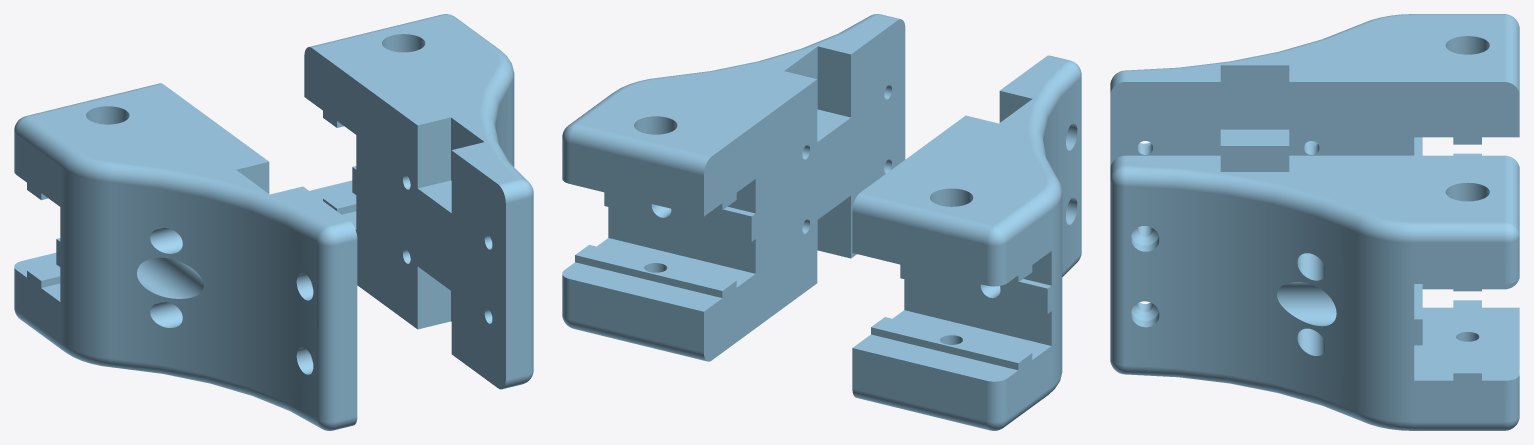
The model's file is pizza_tire_joint.dae.
The picture shows the model from 3 angles, left to right: view 1: azimuth 30°, elevation 25°; view 2: azimuth 150°, elevation 25°; view 3: azimuth 270°, elevation 25°; orthographic projection.
Visible parts, largest first — view 1: Part 1, Part 2; view 2: Part 2, Part 1; view 3: Part 2, Part 1.
Boxes of the visible parts, x1,y1,x2,y2 form: Part 1: [14, 83, 357, 430]; Part 2: [304, 14, 533, 389]; Part 2: [562, 14, 905, 361]; Part 1: [852, 55, 1081, 430]; Part 2: [1110, 155, 1519, 430]; Part 1: [1110, 14, 1519, 289].
Size of the model in its own units: 0.1 by 0.0788 by 0.044.
